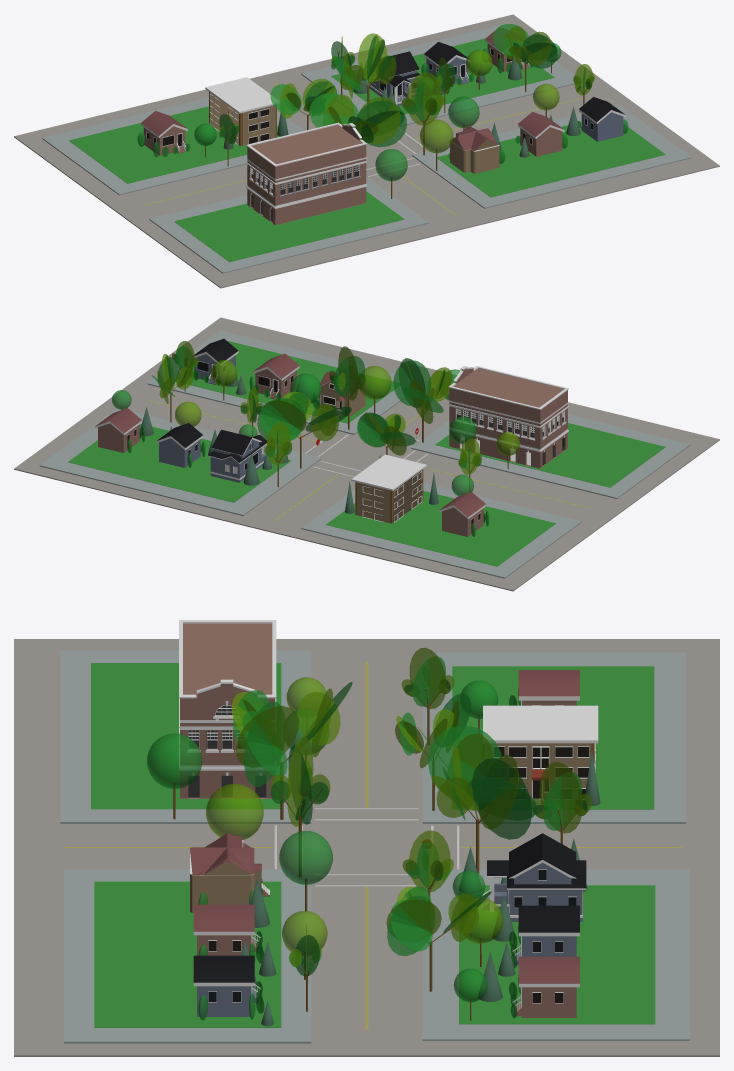
The picture shows the model from 3 angles, top to bottom: view 1: azimuth 30°, elevation 25°; view 2: azimuth 150°, elevation 25°; view 3: azimuth 270°, elevation 25°; orthographic projection. The views are drawn at different scales.
Parts seen in each view (by area): view 1: pCubeShape364, pCubeShape75, pCubeShape74, pCubeShape172, pasted__pCubeShape28, pasted__pCubeShape29, pasted__pCube42Shape, pasted__pCubeShape27, pasted__pCubeShape2, pCubeShape227, pasted__pCubeShape33, pasted__pCubeShape5 (+34 smaller); view 2: pCubeShape364, pCubeShape172, pCubeShape227, pasted__pCubeShape2, pasted__pCubeShape27, pCubeShape75, pasted__pCubeShape28, pasted__pCube42Shape, pCubeShape74, pasted__pCubeShape29, pasted__pCubeShape33, pasted__pCubeShape5 (+41 smaller); view 3: pCubeShape364, pCubeShape74, pCubeShape227, pasted__pCubeShape2, pasted__pCubeShape29, pCubeShape75, pasted__pCubeShape27, pCubeShape172, pasted__pCubeShape28, pasted__pCube42Shape, pCubeShape366, pCube64Shape (+55 smaller).
Part boxes in pixels (bbox=[...]): pCubeShape364: bbox=[14, 14, 719, 288]; pCubeShape75: bbox=[174, 191, 404, 262]; pCubeShape74: bbox=[437, 122, 665, 197]; pCubeShape172: bbox=[68, 106, 288, 183]; pasted__pCubeShape28: bbox=[149, 171, 428, 273]; pasted__pCubeShape29: bbox=[412, 104, 691, 208]; pasted__pCube42Shape: bbox=[247, 125, 366, 182]; pasted__pCubeShape27: bbox=[42, 97, 303, 195]; pasted__pCubeShape2: bbox=[301, 24, 582, 126]; pCubeShape227: bbox=[331, 38, 554, 114]; pasted__pCubeShape33: bbox=[247, 163, 366, 205]; pasted__pCubeShape5: bbox=[247, 187, 366, 225]; pCubeShape364: bbox=[14, 317, 719, 591]; pCubeShape172: bbox=[326, 491, 555, 566]; pCubeShape227: bbox=[68, 423, 291, 502]; pasted__pCubeShape2: bbox=[39, 408, 321, 515]; pasted__pCubeShape27: bbox=[301, 482, 581, 578]; pCubeShape75: bbox=[435, 422, 665, 487]; pasted__pCubeShape28: bbox=[411, 412, 690, 498]; pasted__pCube42Shape: bbox=[449, 368, 567, 426]; pCubeShape74: bbox=[175, 341, 399, 423]; pasted__pCubeShape29: bbox=[147, 330, 426, 434]; pasted__pCubeShape33: bbox=[449, 406, 567, 448]; pasted__pCubeShape5: bbox=[449, 430, 567, 468]; pCubeShape364: bbox=[14, 639, 719, 1056]; pCubeShape74: bbox=[94, 881, 281, 1027]; pCubeShape227: bbox=[459, 885, 655, 1024]; pasted__pCubeShape2: bbox=[422, 869, 689, 1040]; pasted__pCubeShape29: bbox=[64, 869, 311, 1043]; pCubeShape75: bbox=[91, 663, 281, 809]; pasted__pCubeShape27: bbox=[422, 652, 685, 823]; pCubeShape172: bbox=[452, 666, 654, 809]; pasted__pCubeShape28: bbox=[60, 650, 311, 823]; pasted__pCube42Shape: bbox=[180, 623, 275, 726]; pCubeShape366: bbox=[483, 705, 598, 743]; pCube64Shape: bbox=[190, 832, 254, 912].
Size of the model in its own units: 26.47 by 4.27 by 18.98.
Materials: 21 (2 with a texture image).
